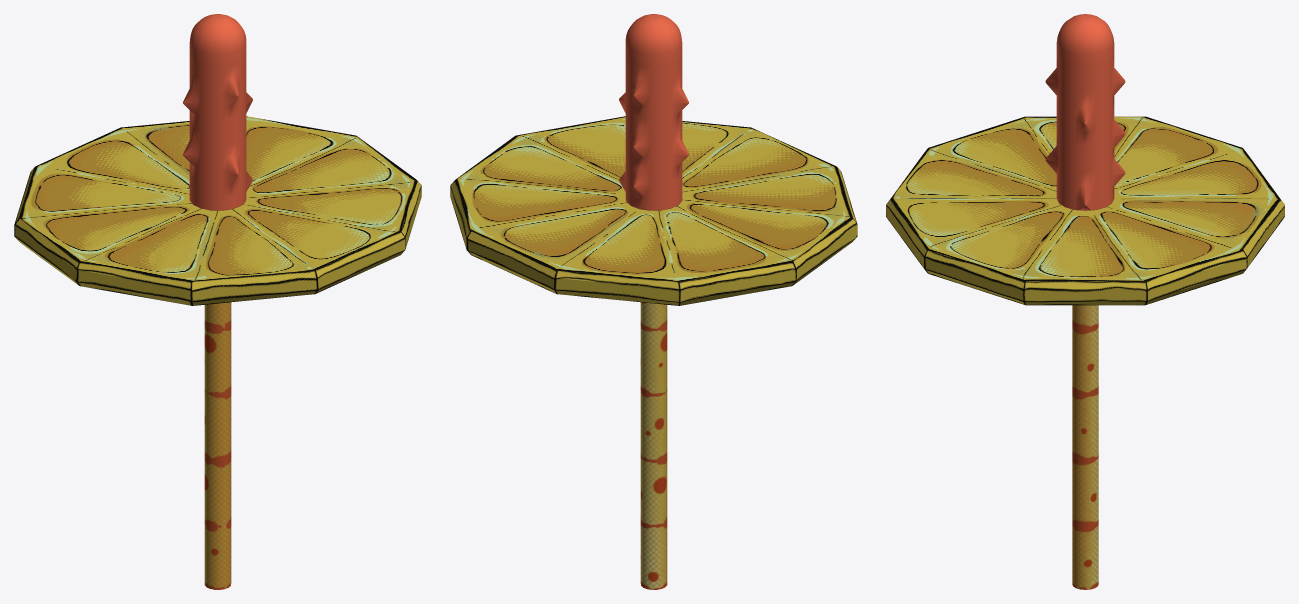
File: Leaf_Platform_Yellow_15m.fbx
3 renders of one model, left to right at view 1: azimuth 30°, elevation 25°; view 2: azimuth 150°, elevation 25°; view 3: azimuth 270°, elevation 25°, orthographic.
Visible parts, largest first — view 1: Platform_Yellow15m, LightTop.002, Pole.002; view 2: Platform_Yellow15m, LightTop.002, Pole.002; view 3: Platform_Yellow15m, LightTop.002, Pole.002.
Part boxes in pixels (left/top/right/bottom): Platform_Yellow15m: left=14, top=116, right=421, bottom=305; LightTop.002: left=183, top=14, right=252, bottom=210; Pole.002: left=204, top=302, right=231, bottom=589; Platform_Yellow15m: left=450, top=116, right=857, bottom=305; LightTop.002: left=619, top=14, right=688, bottom=210; Pole.002: left=640, top=302, right=667, bottom=589; Platform_Yellow15m: left=886, top=116, right=1284, bottom=305; LightTop.002: left=1045, top=14, right=1125, bottom=210; Pole.002: left=1072, top=305, right=1098, bottom=589.
Bounding box in the file's own units: 1500 × 1500 × 2354.
